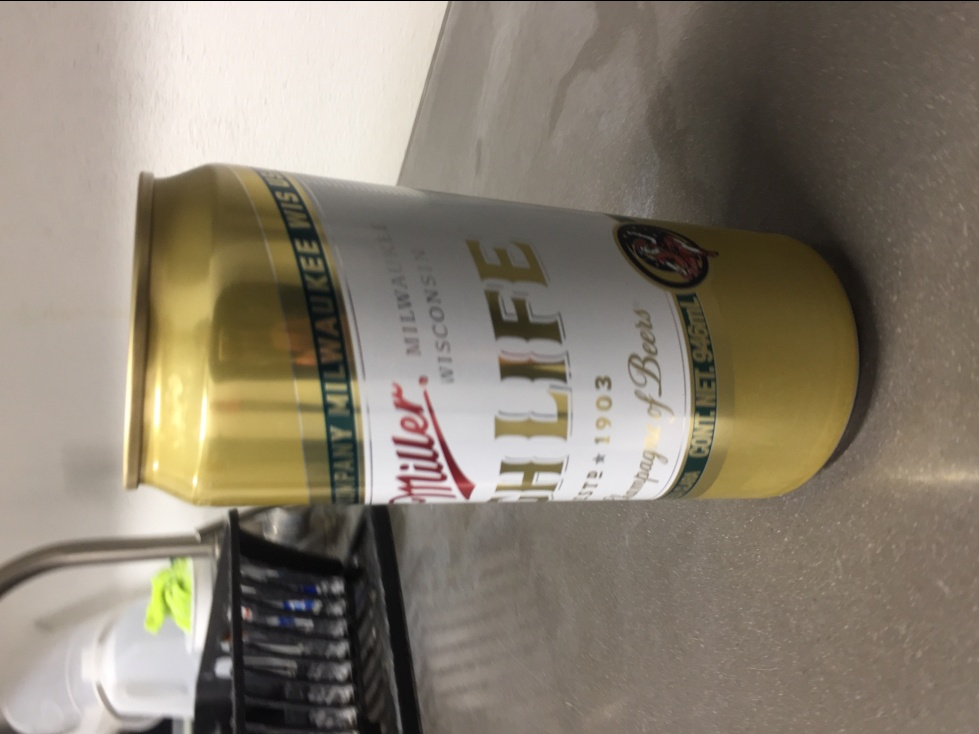miller: (118, 159, 866, 504)
